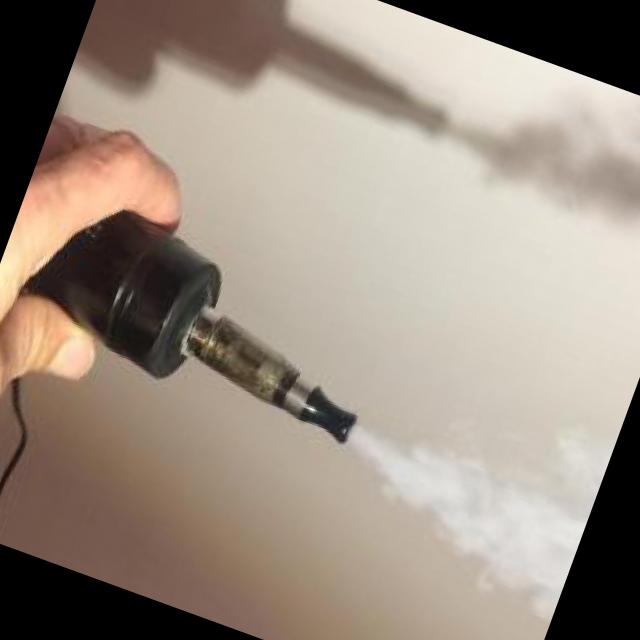smoke: (284, 366, 610, 640)
